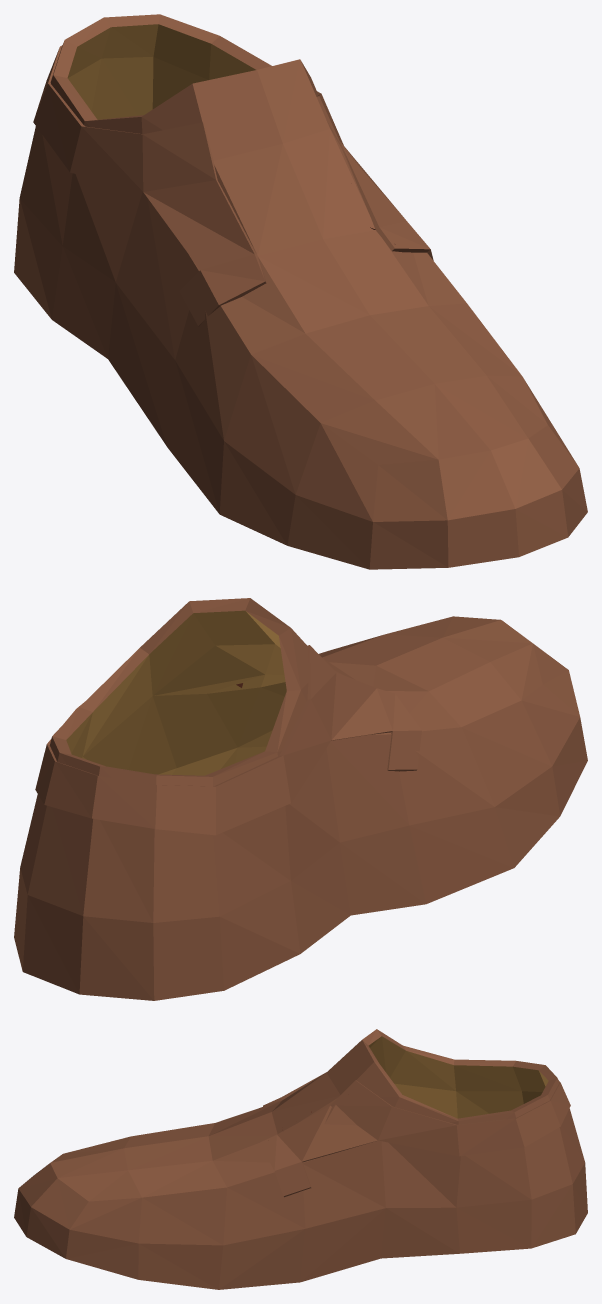
The model's file is DressBody.glb.
3 views of the same model, one above another, from view 1: azimuth 30°, elevation 25°; view 2: azimuth 150°, elevation 25°; view 3: azimuth 270°, elevation 25° (orthographic). The views are drawn at different scales.
Visible parts, largest first — view 1: Node; view 2: Node; view 3: Node.
Boxes of the visible parts, bbox=[...] form: Node: bbox=[14, 14, 587, 569]; Node: bbox=[14, 598, 587, 1000]; Node: bbox=[14, 1029, 587, 1289].
Bounding box in the file's own units: 2.53 × 2.69 × 6.66.
